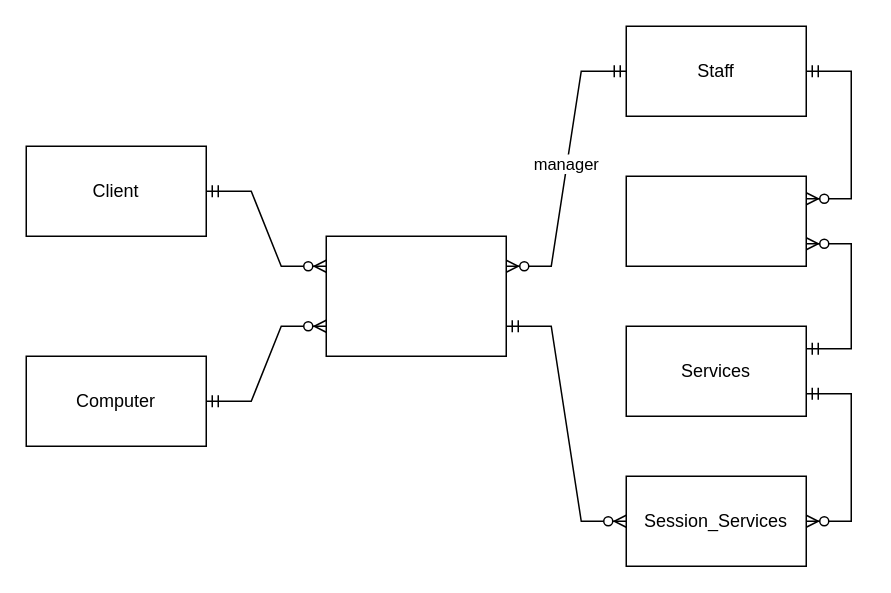
Some shapes in this 891 by 593 pixel diagram are drawn without their labels. Each missing label, with the centre of its shape:
"Session" belongs at (x=415, y=295).
"Staff_Services" belongs at (x=715, y=220).
